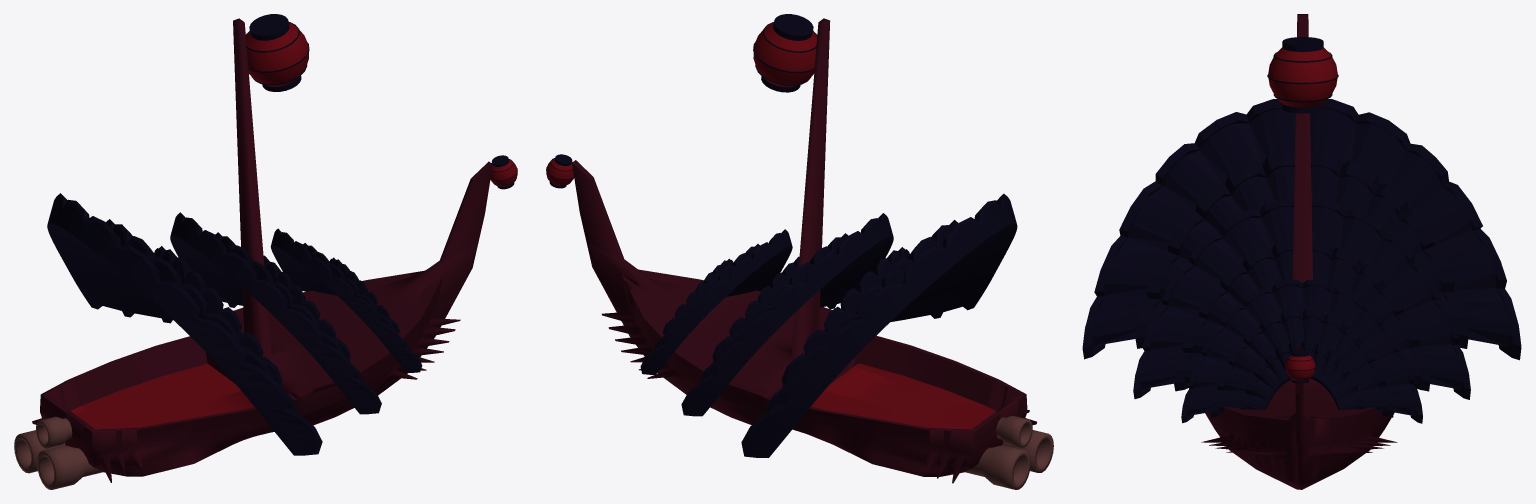
File: Emelinatorgator.FBX
3 renders of one model, left to right at view 1: azimuth 30°, elevation 25°; view 2: azimuth 150°, elevation 25°; view 3: azimuth 270°, elevation 25°, orthographic. The views are drawn at different scales.
Visible parts, largest first — view 1: Emelinator, polySurface010, polySurface009, polySurface5, Sphere002, Tube001, Tube002, Tube003, Sphere001; view 2: Emelinator, polySurface010, polySurface009, polySurface5, Sphere002, Tube002, Tube001, Tube003, Sphere001; view 3: polySurface010, polySurface009, polySurface5, Emelinator, Sphere002, Sphere001.
Boxes of the visible parts, box(x1,y1,x2,y2) form: Emelinator: box(32, 18, 492, 482); polySurface010: box(47, 193, 322, 455); polySurface009: box(170, 212, 381, 414); polySurface5: box(270, 228, 422, 372); Sphere002: box(245, 14, 309, 91); Tube001: box(37, 445, 102, 489); Tube002: box(14, 430, 65, 473); Tube003: box(36, 416, 72, 448); Sphere001: box(490, 155, 517, 189); Emelinator: box(572, 18, 1036, 483); polySurface010: box(741, 193, 1017, 457); polySurface009: box(681, 213, 893, 416); polySurface5: box(640, 229, 792, 374); Sphere002: box(753, 14, 817, 92); Tube002: box(965, 445, 1030, 489); Tube001: box(1002, 430, 1053, 472); Tube003: box(996, 416, 1032, 447); Sphere001: box(546, 154, 574, 188); polySurface010: box(1082, 98, 1521, 360); polySurface009: box(1133, 198, 1470, 399); polySurface5: box(1181, 279, 1422, 423); Emelinator: box(1201, 14, 1397, 489); Sphere002: box(1267, 37, 1338, 113); Sphere001: box(1285, 350, 1315, 383).
Size of the model in its own units: 50.61 by 40.99 by 38.97.
